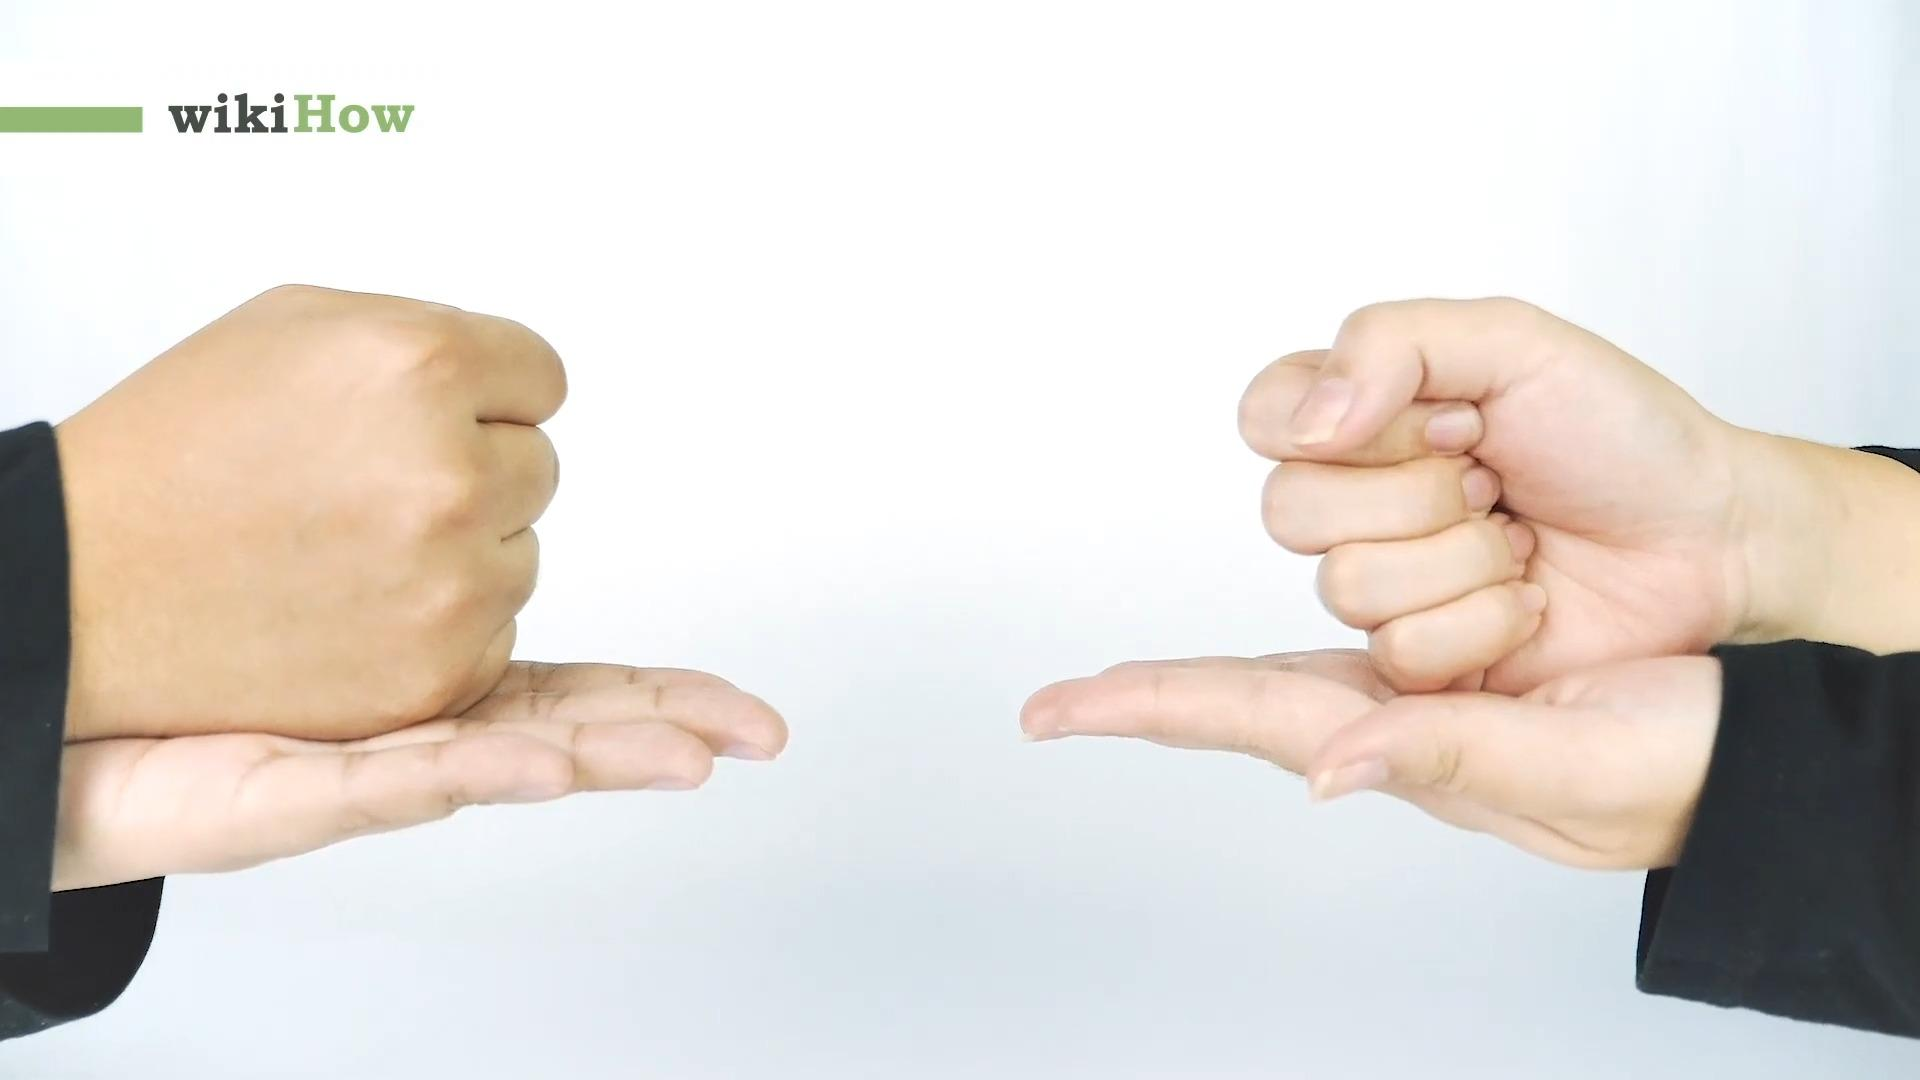Rock: (73, 281, 568, 733), (1229, 289, 1743, 692)
